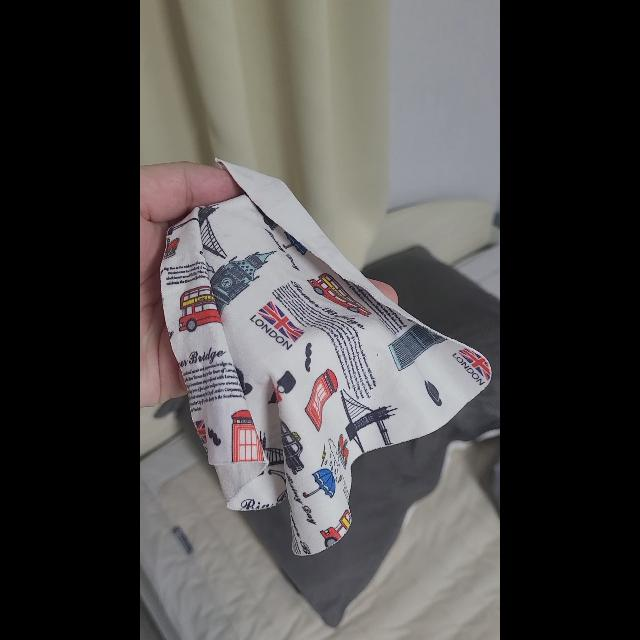Glasses cleaning cloth: (160, 156, 492, 556)
